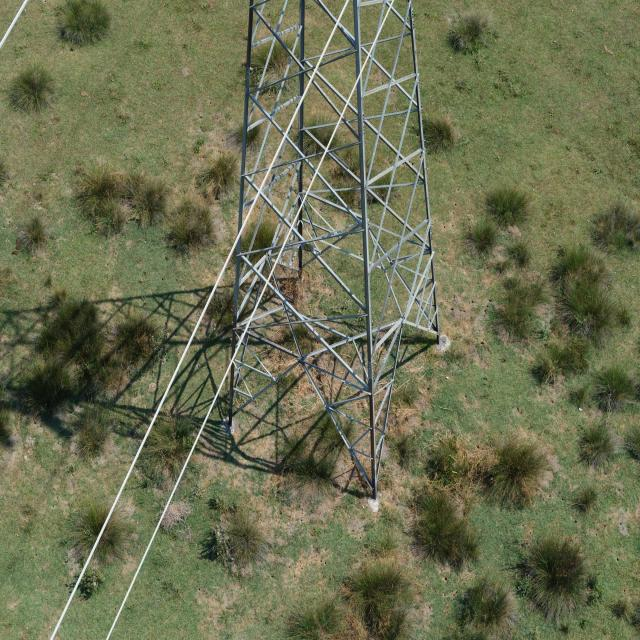direk: (205, 0, 450, 500)
